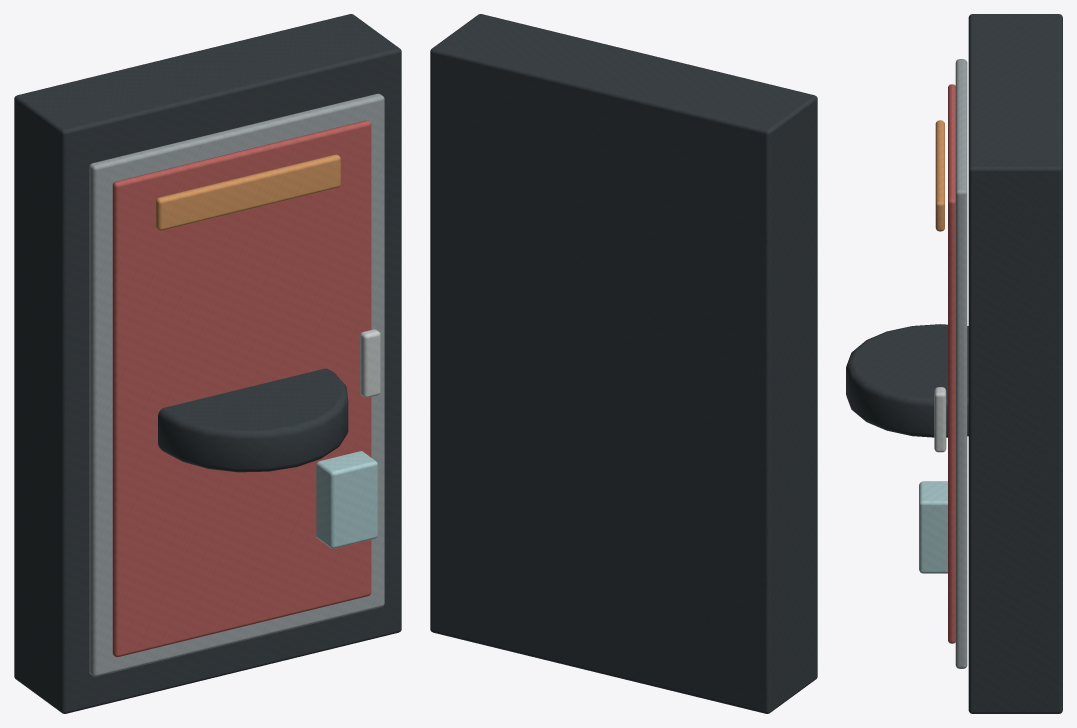
The model's file is WallHydrantCabinet.fbx.
3 views of the same model, side by side, from view 1: azimuth 30°, elevation 25°; view 2: azimuth 150°, elevation 25°; view 3: azimuth 270°, elevation 25° (orthographic). The views are drawn at different scales.
Parts seen in each view (by area): view 1: WallHydrantCabinet_Mesh; view 2: WallHydrantCabinet_Mesh; view 3: WallHydrantCabinet_Mesh.
Boxes of the visible parts, x1,y1,x2,y2 form: WallHydrantCabinet_Mesh: [14, 14, 401, 713]; WallHydrantCabinet_Mesh: [430, 14, 817, 713]; WallHydrantCabinet_Mesh: [846, 14, 1062, 713].
Size of the model in its own units: 78 by 128 by 46.
6 materials, 6 textured.
